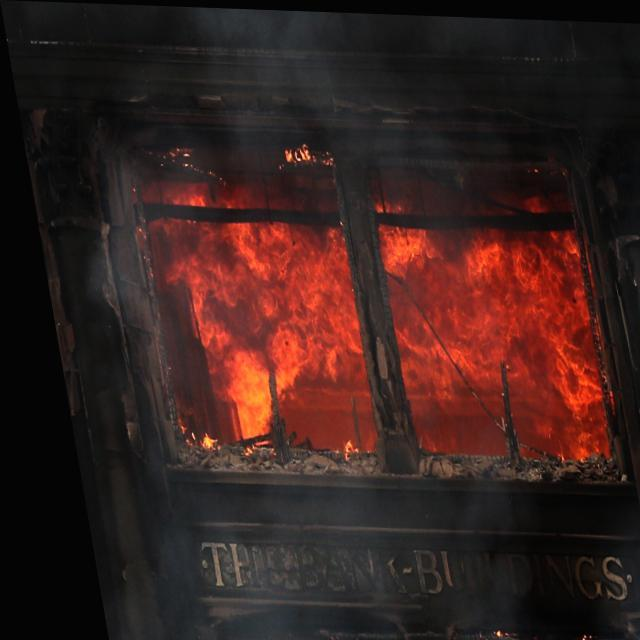Fire: (113, 140, 605, 460)
